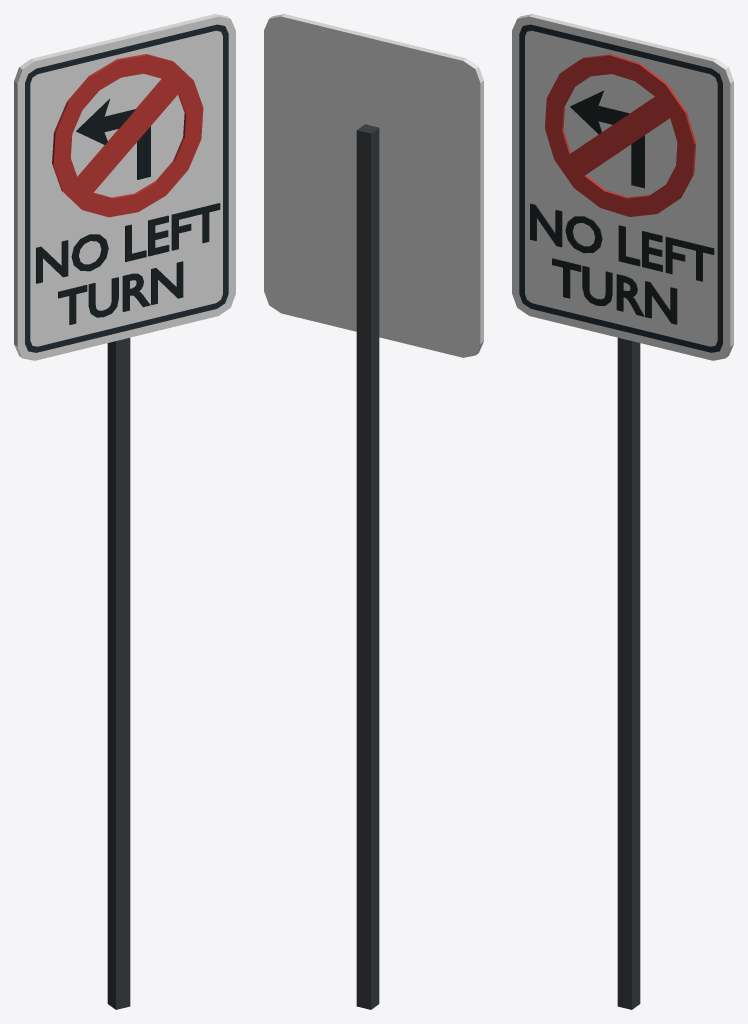
The model's file is SM_FloorProps_RoadSign_21.fbx.
The picture shows the model from 3 angles, left to right: view 1: azimuth 30°, elevation 25°; view 2: azimuth 150°, elevation 25°; view 3: azimuth 330°, elevation 25°; orthographic projection.
Visible parts, largest first — view 1: SM_FloorProps_RoadSign_21; view 2: SM_FloorProps_RoadSign_21; view 3: SM_FloorProps_RoadSign_21.
Boxes of the visible parts, box(x1,y1,x2,y2) form: SM_FloorProps_RoadSign_21: box(14, 14, 235, 1009); SM_FloorProps_RoadSign_21: box(264, 14, 483, 1009); SM_FloorProps_RoadSign_21: box(512, 14, 733, 1009).
Size of the model in its own units: 0.6461 by 2.75 by 0.0693.
